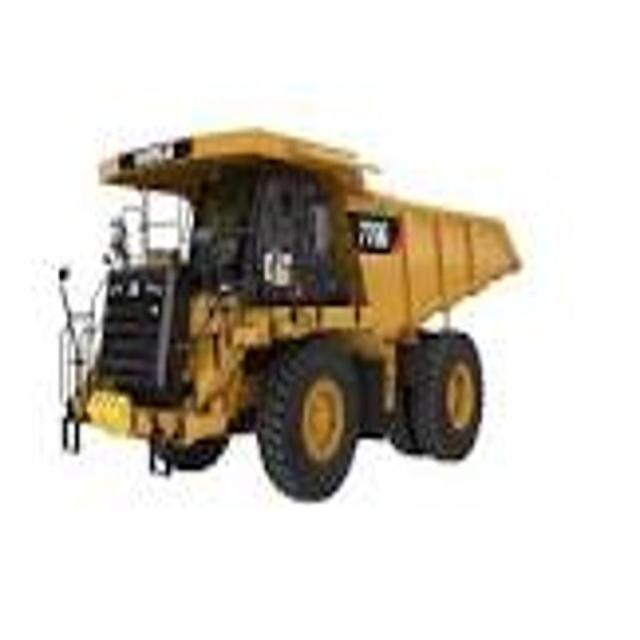dump_truck: (54, 116, 527, 501)
